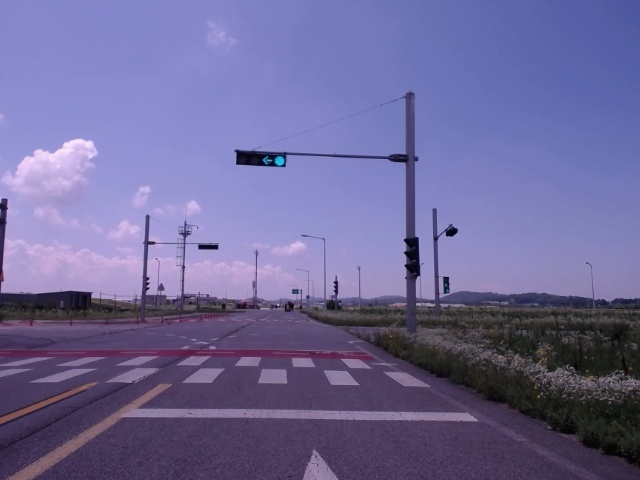all_green_4: (234, 149, 287, 168)
